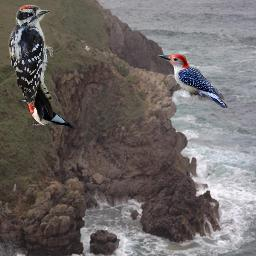Woodpecker: (7, 5, 53, 122), (158, 54, 228, 108), (18, 96, 76, 131)
